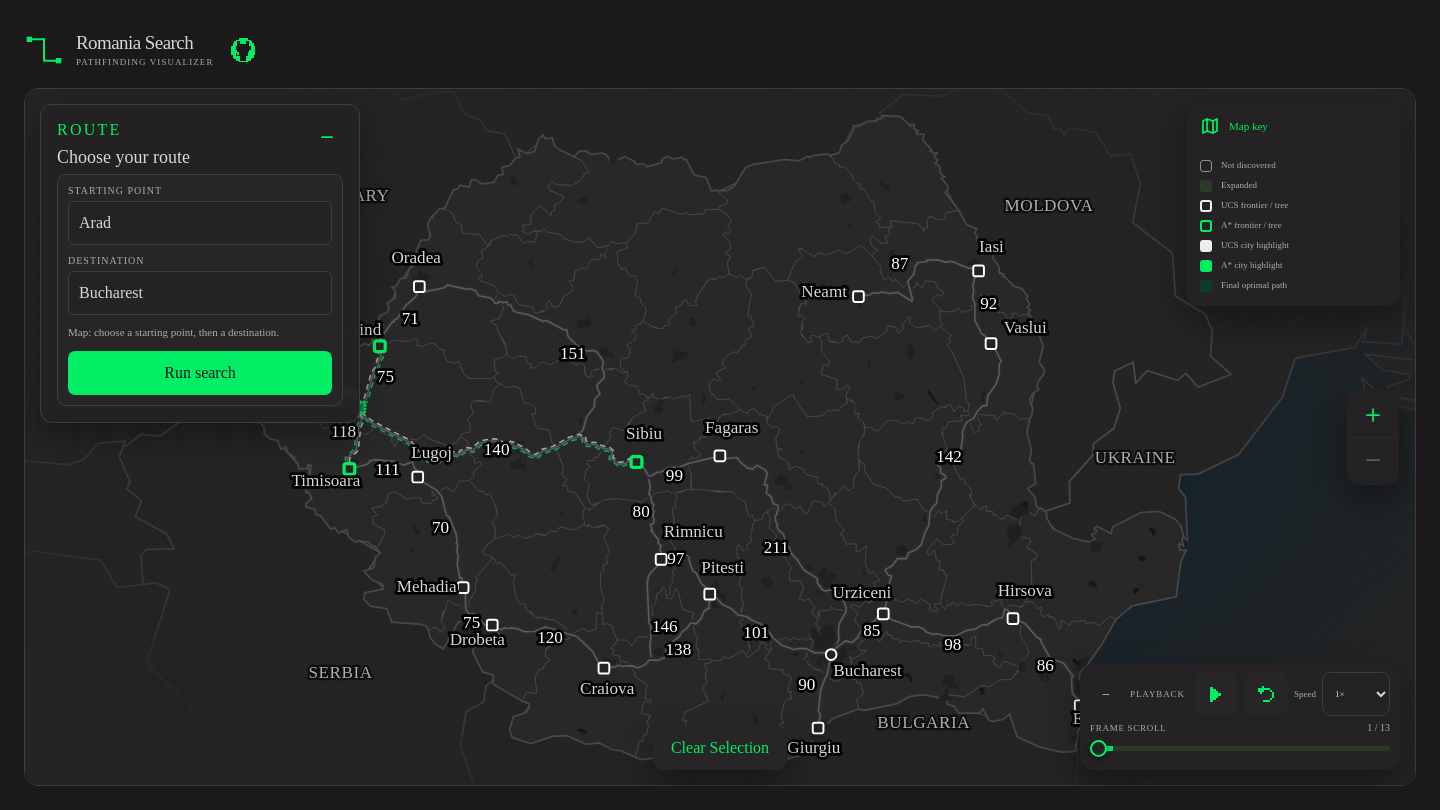
Test: RomaniaSearch › uses one button that switches between play and pause
Click the button named "Play animation" at (1216, 694), box 1194,672 -> 1238,716
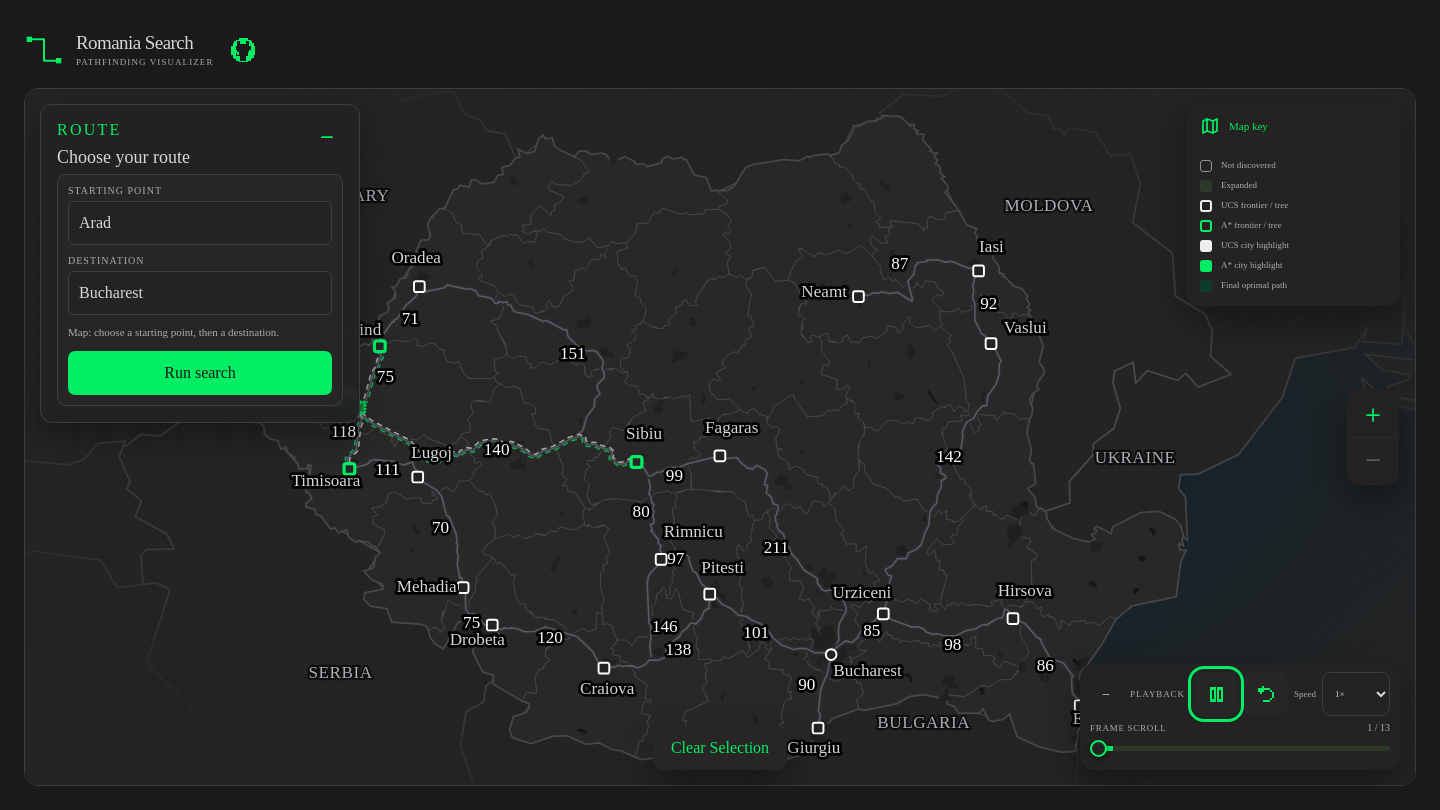
Expected: the button named "Pause animation" is shown
Click the button named "Pause animation" at (1216, 694), box 1194,672 -> 1238,716
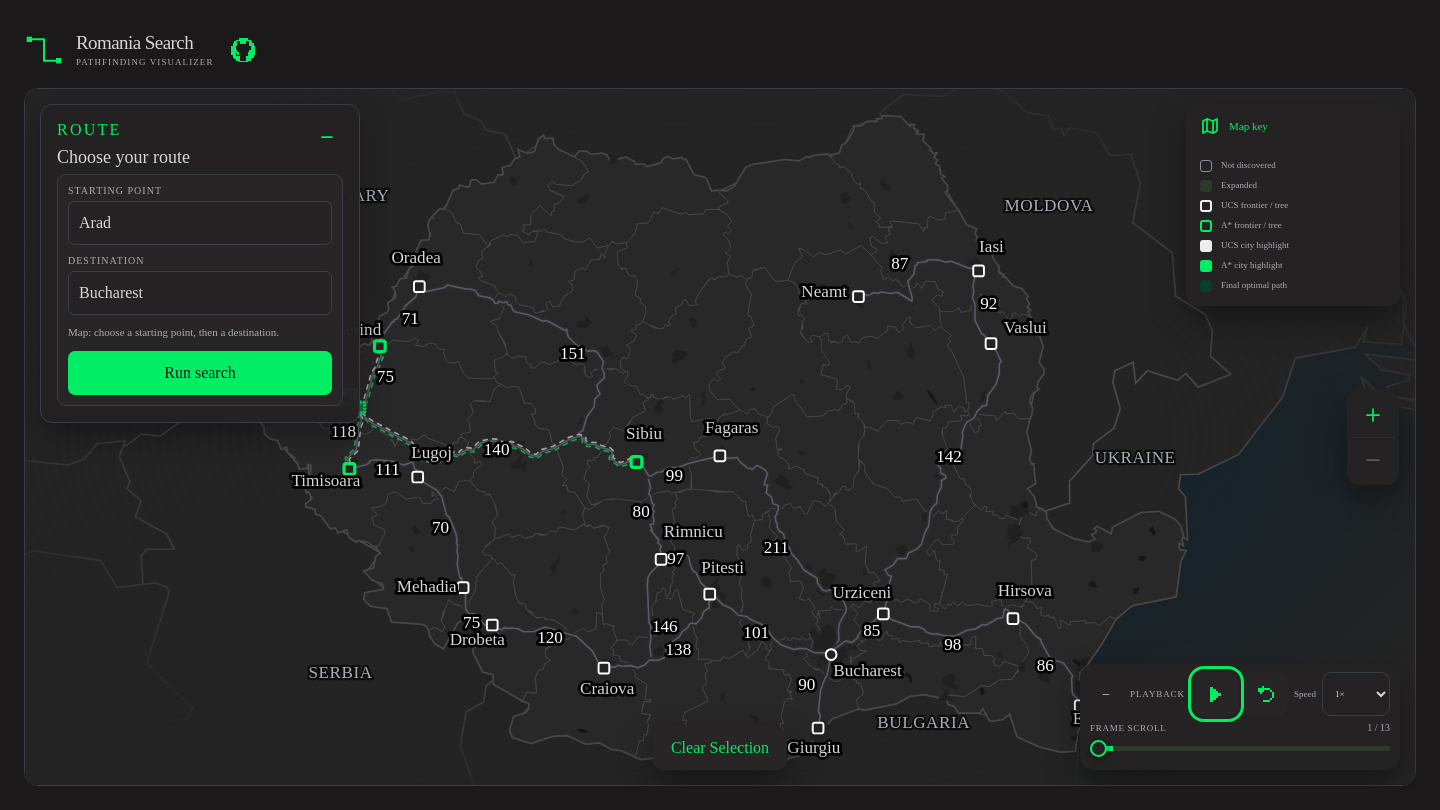
Expected: the button named "Play animation" is shown, 1194,672 -> 1238,716
